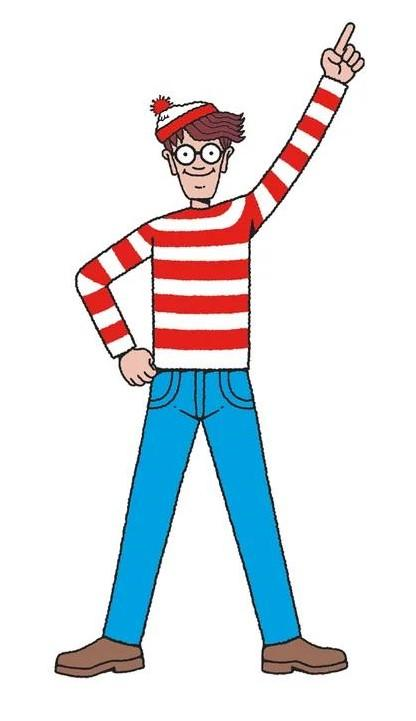waldos: (52, 21, 365, 680)
